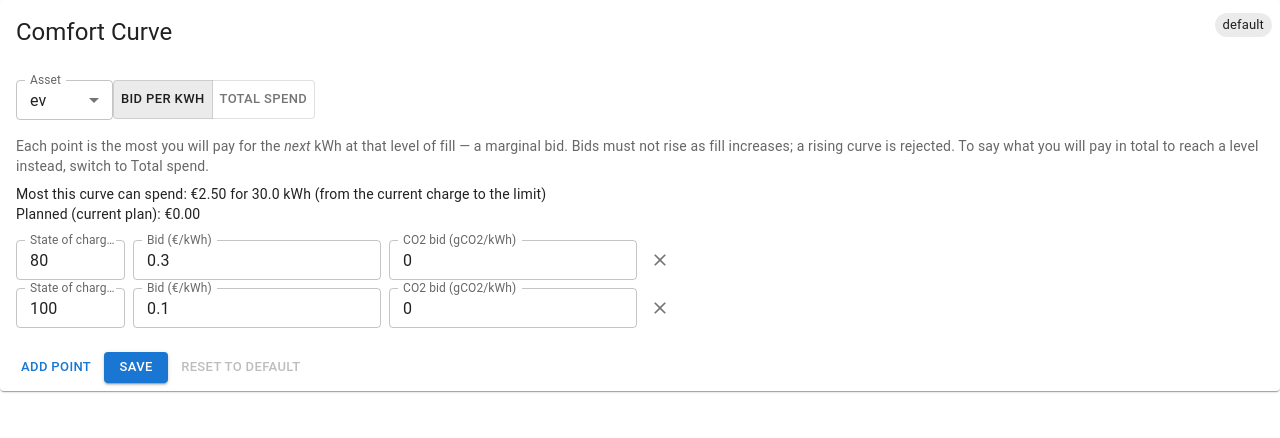
Test: ComfortCurveCard › shows the curve as the total you will pay, from the current charge
Step 1. Click the button with test id "comfort-mode-spend" → (263, 99), box [212,80,315,119]
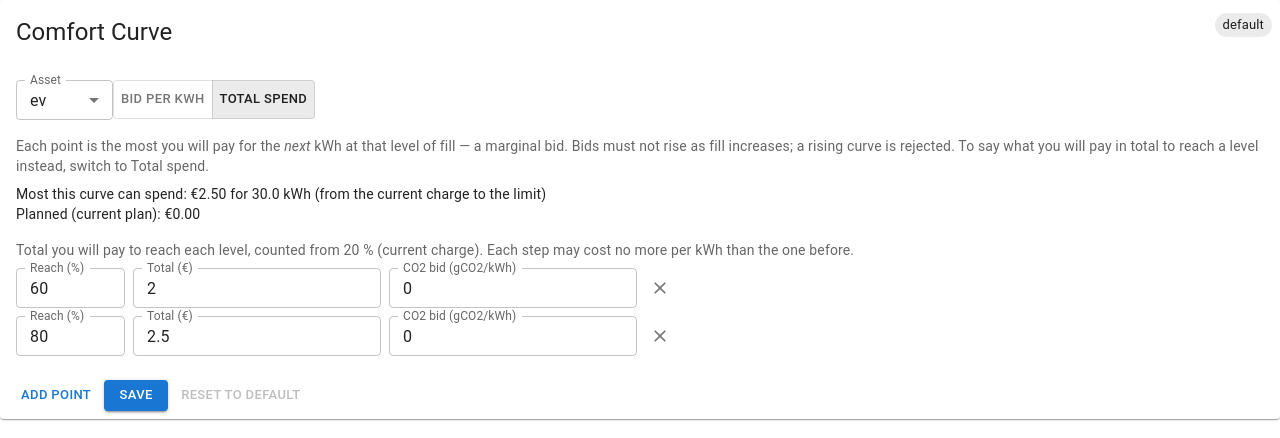
Now the number field with test id "comfort-spend-fill-0" holds "60", box [16,268,125,308]
Now the number field with test id "comfort-spend-eur-0" holds "2", box [133,268,381,308]
Now the number field with test id "comfort-spend-eur-1" holds "2.5", box [133,316,381,356]
